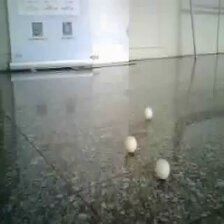tennis: (172, 94, 190, 120), (107, 67, 120, 85), (45, 57, 57, 75), (122, 52, 131, 65)
